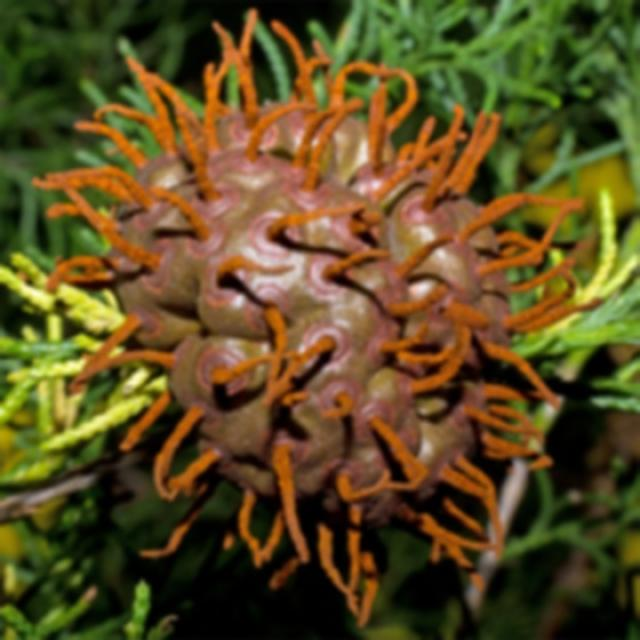Gymnosporangium_Rusts: (30, 7, 599, 627)
